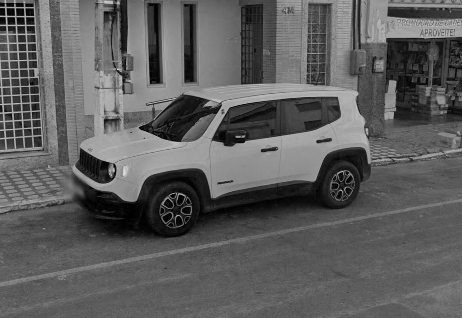car: (72, 81, 386, 239)
